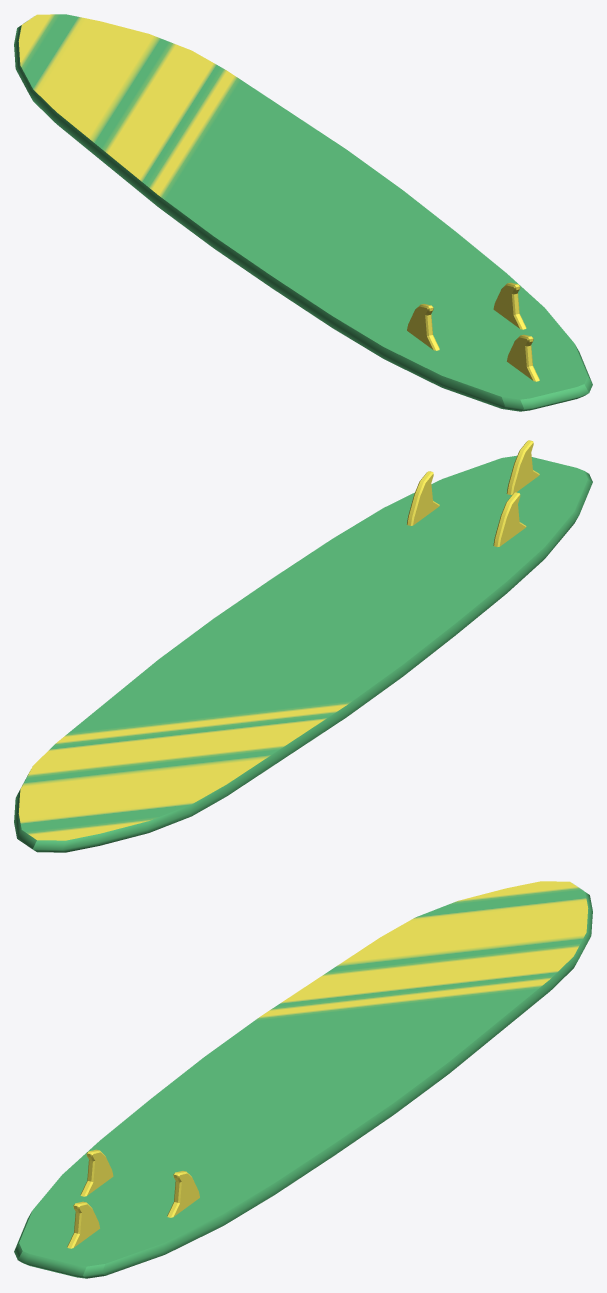
3 renders of one model, top to bottom at view 1: azimuth 30°, elevation 25°; view 2: azimuth 150°, elevation 25°; view 3: azimuth 330°, elevation 25°, orthographic.
Parts seen in each view (by area): view 1: pCube12; view 2: pCube12; view 3: pCube12.
Part boxes in pixels (<box>): pCube12: <box>14,14,592,411</box>; pCube12: <box>14,440,592,852</box>; pCube12: <box>14,881,592,1278</box>.
Bounding box in the file's own units: 9.89 × 2.48 × 46.66.
1 material, 1 textured.
